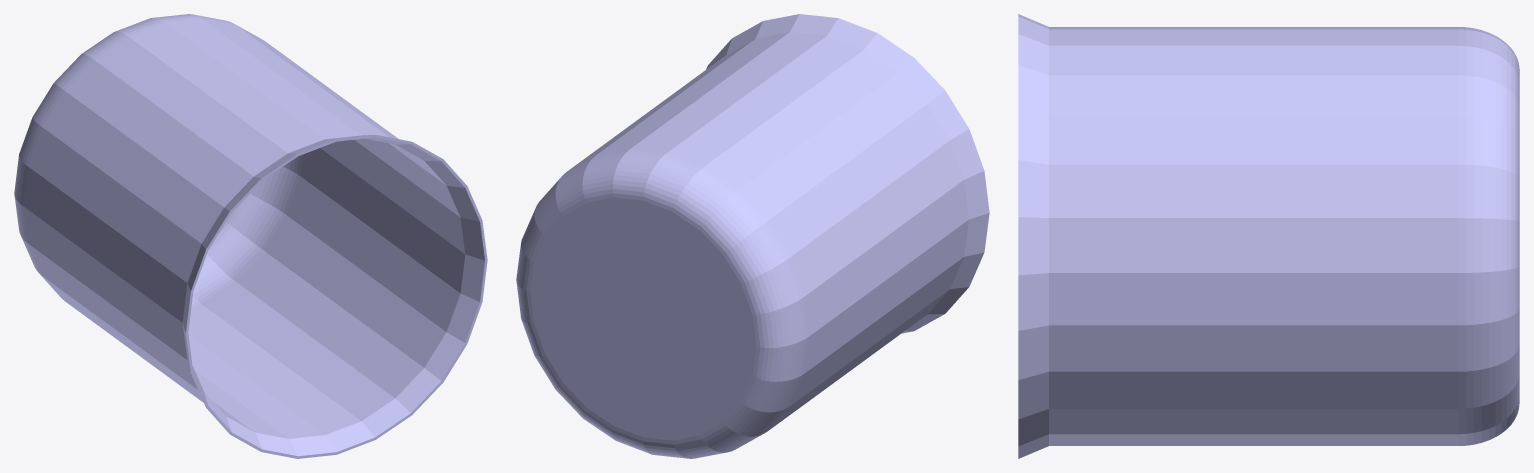
The picture shows the model from 3 angles, left to right: view 1: azimuth 30°, elevation 25°; view 2: azimuth 150°, elevation 25°; view 3: azimuth 270°, elevation 25°; orthographic projection. The views are drawn at different scales.
Parts seen in each view (by area): view 1: beaker; view 2: beaker; view 3: beaker.
Boxes of the visible parts, x1,y1,x2,y2 form: beaker: (14, 14, 487, 458); beaker: (516, 14, 989, 458); beaker: (1018, 14, 1519, 458).
Bounding box in the file's own units: 4.46 × 4.46 × 5.
